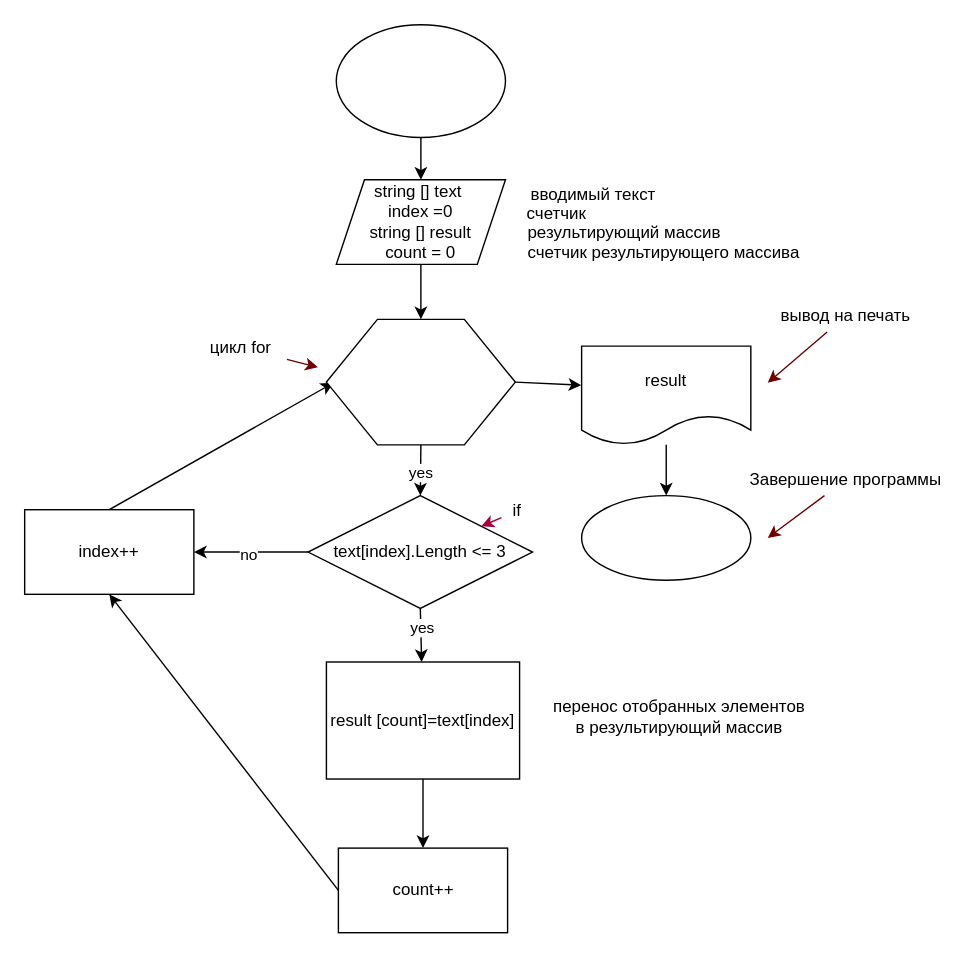
This 979x957 diagram has some shape labels left out. The shapes that lost their labels are listed below. From the top down, each one's centre as x and y in pixels, then its label:
At (420,80): "Start".
At (420,381): "index < text.length".
At (665,537): "end".
